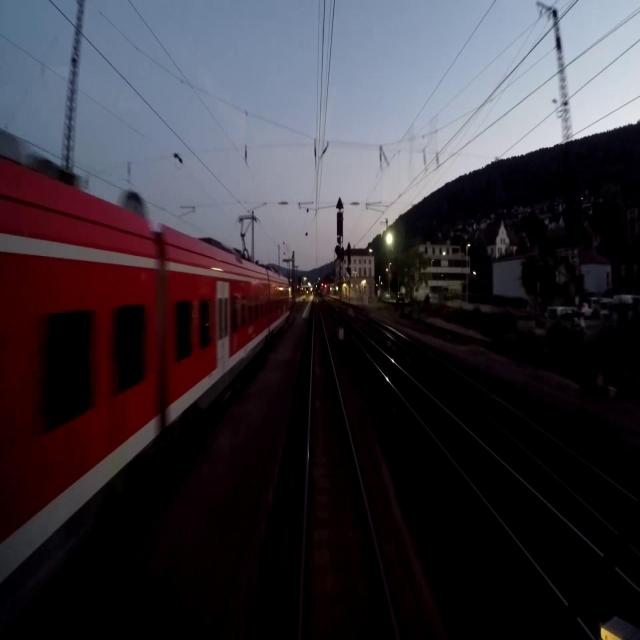rail-track: (331, 308, 595, 587), (352, 309, 630, 525), (302, 296, 395, 639)
